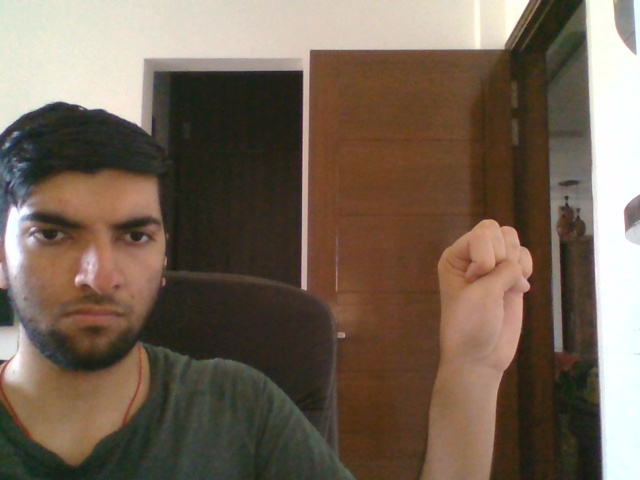LetterS: (433, 214, 534, 376)
